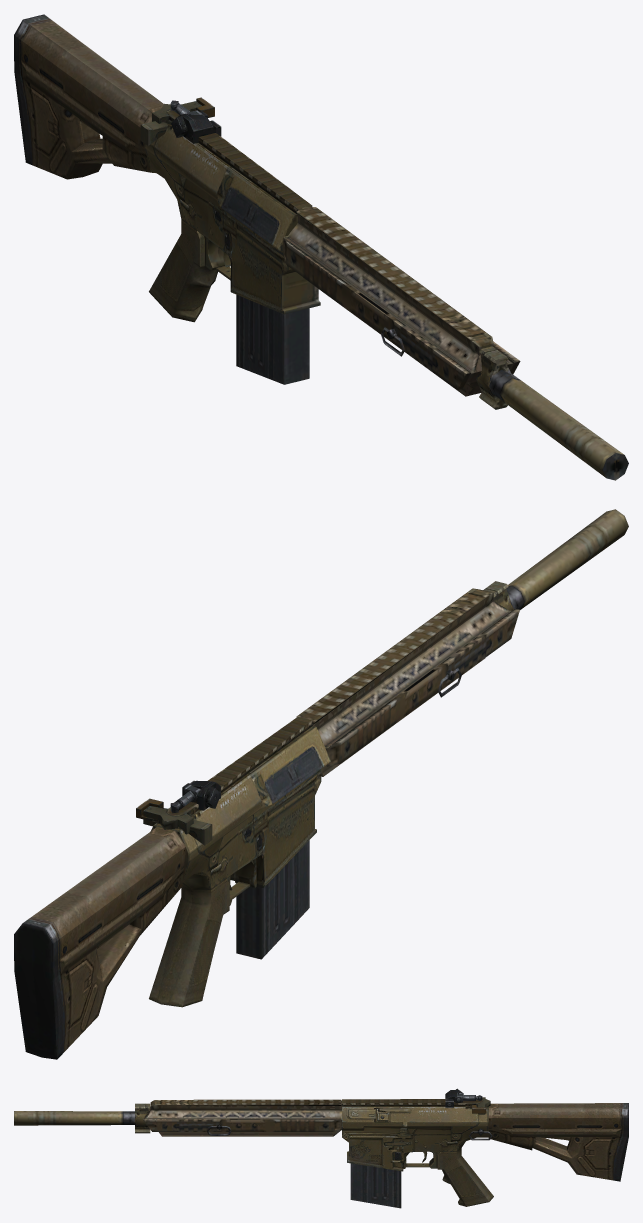
The model's file is Sniper_Rifle_SR_M110_lod2_Body_LOD_(000527).glb.
3 renders of one model, top to bottom at view 1: azimuth 30°, elevation 25°; view 2: azimuth 150°, elevation 25°; view 3: azimuth 270°, elevation 25°, orthographic. The views are drawn at different scales.
Parts seen in each view (by area): view 1: SR_M110_lod2; view 2: SR_M110_lod2; view 3: SR_M110_lod2.
Boxes of the visible parts, x1,y1,x2,y2 form: SR_M110_lod2: [14, 14, 628, 480]; SR_M110_lod2: [14, 509, 628, 1059]; SR_M110_lod2: [14, 1088, 628, 1208].
Bounding box in the file's own units: 0.0774 × 0.2418 × 1.2.
Materials: 1 (1 with a texture image).
